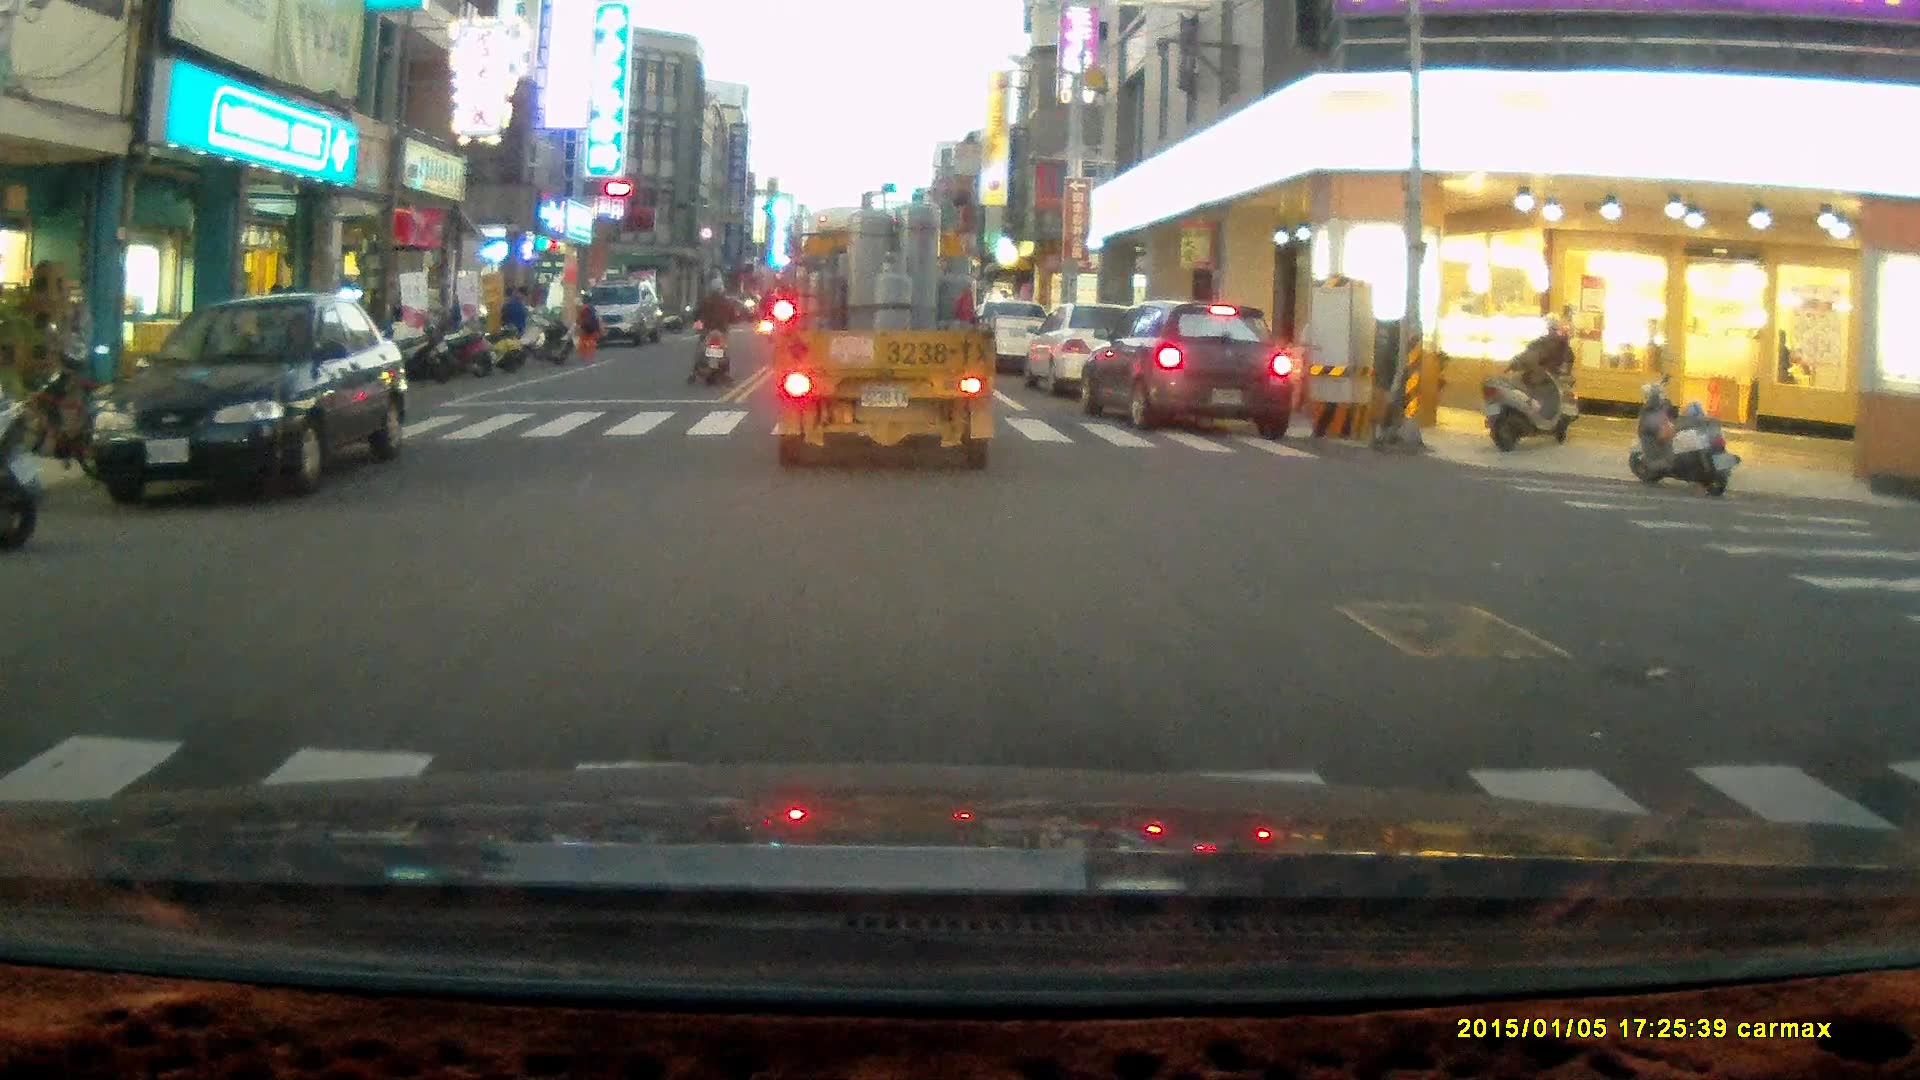pedestrian: (500, 282, 532, 358), (577, 294, 598, 361)
rider: (1507, 308, 1581, 443), (686, 274, 736, 390)
vehicle: (86, 290, 415, 510), (771, 185, 995, 476), (1074, 301, 1306, 433), (1027, 304, 1160, 401), (586, 281, 672, 348)
